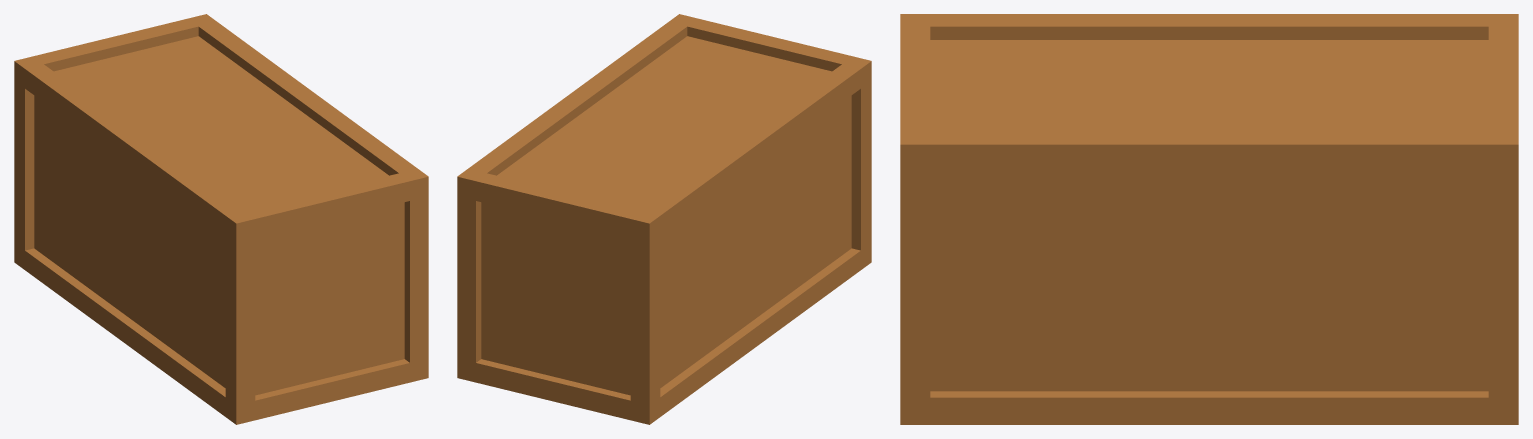
The model's file is CrateDouble.glb.
3 renders of one model, left to right at view 1: azimuth 30°, elevation 25°; view 2: azimuth 150°, elevation 25°; view 3: azimuth 270°, elevation 25°, orthographic. The views are drawn at different scales.
Visible parts, largest first — view 1: Cube; view 2: Cube; view 3: Cube.
Boxes of the visible parts, x1,y1,x2,y2 form: Cube: (14,14,428,424); Cube: (457,14,871,424); Cube: (900,14,1518,424).
Bounding box in the file's own units: 2 × 2 × 4.
1 material, 1 textured.
